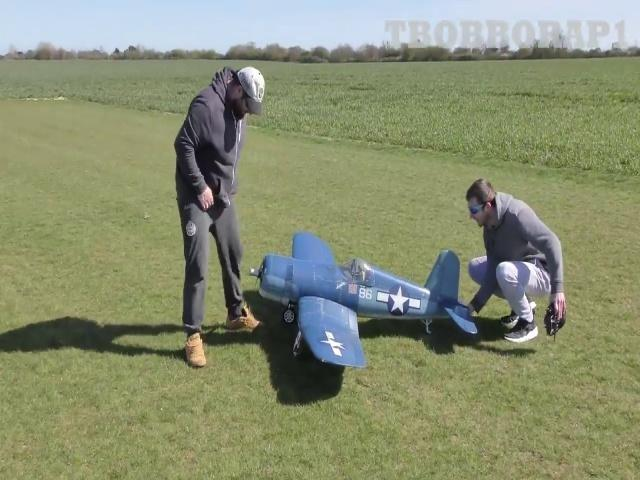Airplane: (250, 233, 478, 367)
